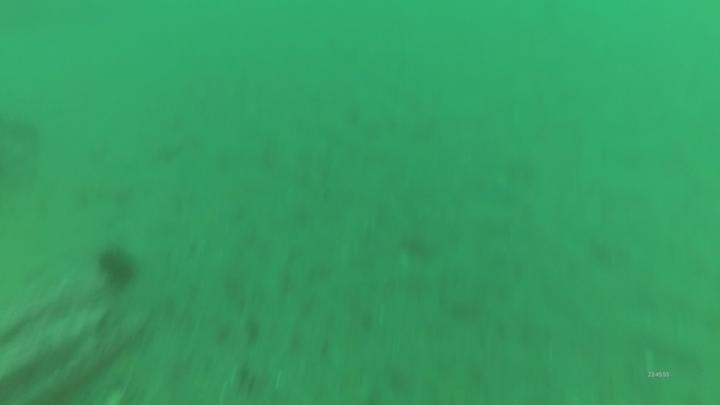echinus: (95, 243, 141, 290)
